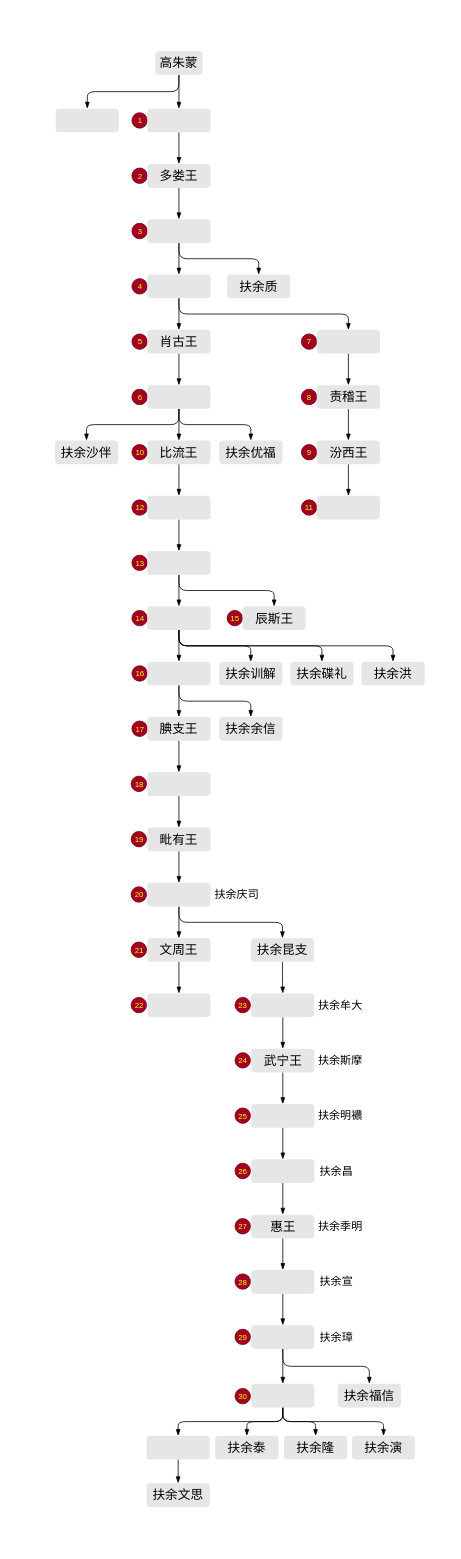
This 461x1559 diagram has some shape labels left out. The shapes that lost their labels are listed below. From the top down, each one's centre as x and y in pixels, then its label:
At pixel 86 120: "扶余沸流".
At pixel 178 120: "扶余 温祚".
At pixel 178 231: "己娄 王".
At pixel 178 286: "盖娄 王".
At pixel 348 341: "古尔 王".
At pixel 178 396: "仇首 王".
At pixel 178 507: "近肖古王".
At pixel 348 507: "契王".
At pixel 178 562: "近 仇首 王".
At pixel 178 618: "枕流王".
At pixel 178 673: "阿莘王".
At pixel 178 784: "久尔辛王".
At pixel 178 894: "盖卤王".
At pixel 178 1005: "三斤王".
At pixel 282 1005: "东城王".
At pixel 282 1115: "圣王".
At pixel 282 1171: "威德王".
At pixel 282 1281: "法王".
At pixel 282 1337: "武王".
At pixel 282 1395: "义慈王".
At pixel 177 1447: "扶余 孝".
